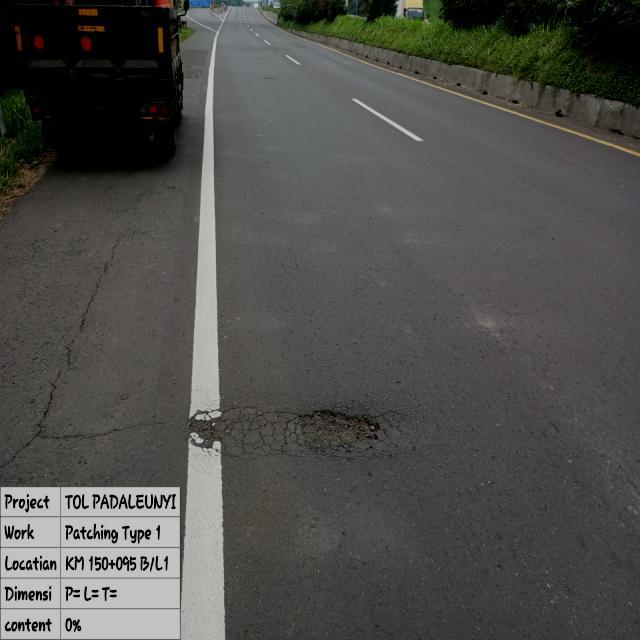Buraco: (293, 407, 384, 450)
